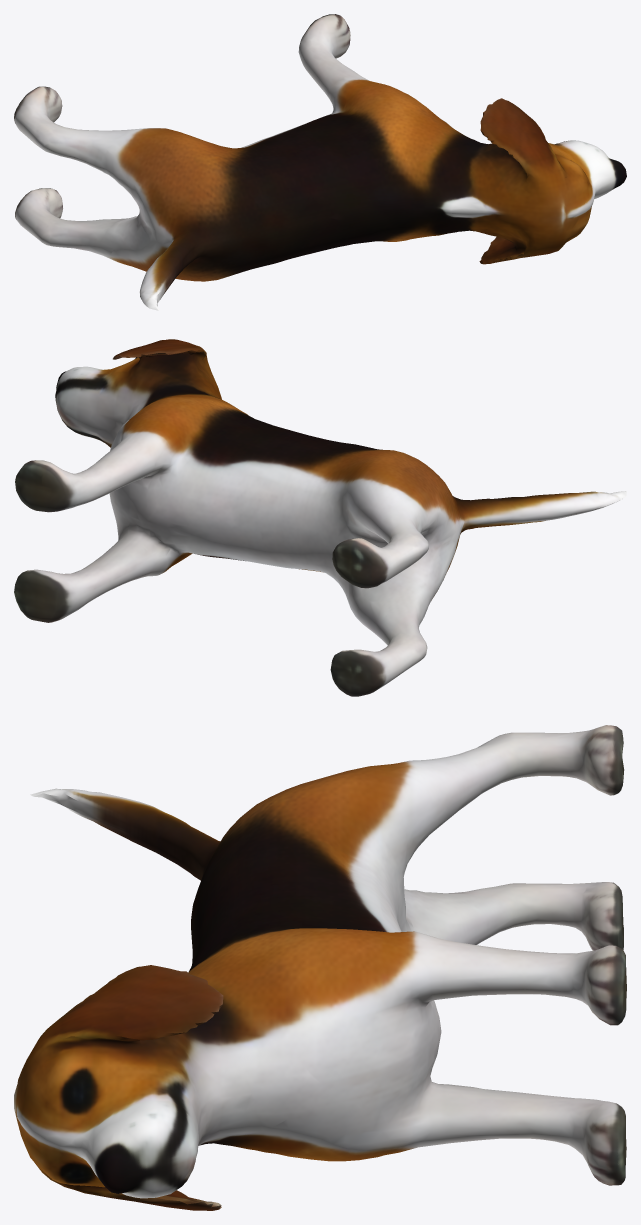
3 views of the same model, one above another, from view 1: azimuth 30°, elevation 25°; view 2: azimuth 150°, elevation 25°; view 3: azimuth 270°, elevation 25° (orthographic). The views are drawn at different scales.
Visible parts, largest first — view 1: lagrange_node; view 2: lagrange_node; view 3: lagrange_node.
Part boxes in pixels (x1,y1,x2,y2): lagrange_node: [14, 14, 626, 310]; lagrange_node: [14, 339, 626, 696]; lagrange_node: [14, 725, 626, 1210].
Bounding box in the file's own units: 2.16 × 0.6043 × 1.45.
1 material, 1 textured.
